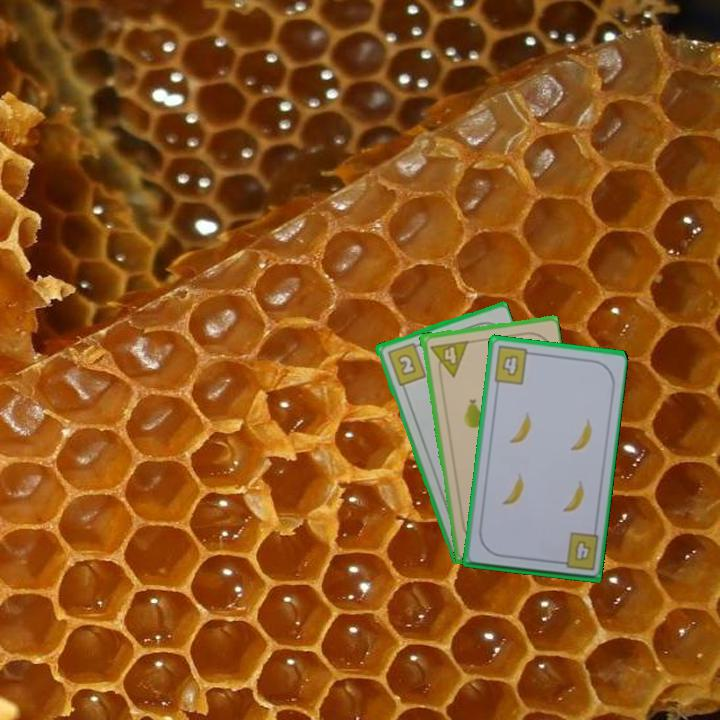2b: (383, 339, 429, 388)
4b: (553, 529, 601, 574), (490, 342, 536, 387)
4p: (426, 337, 470, 380)
